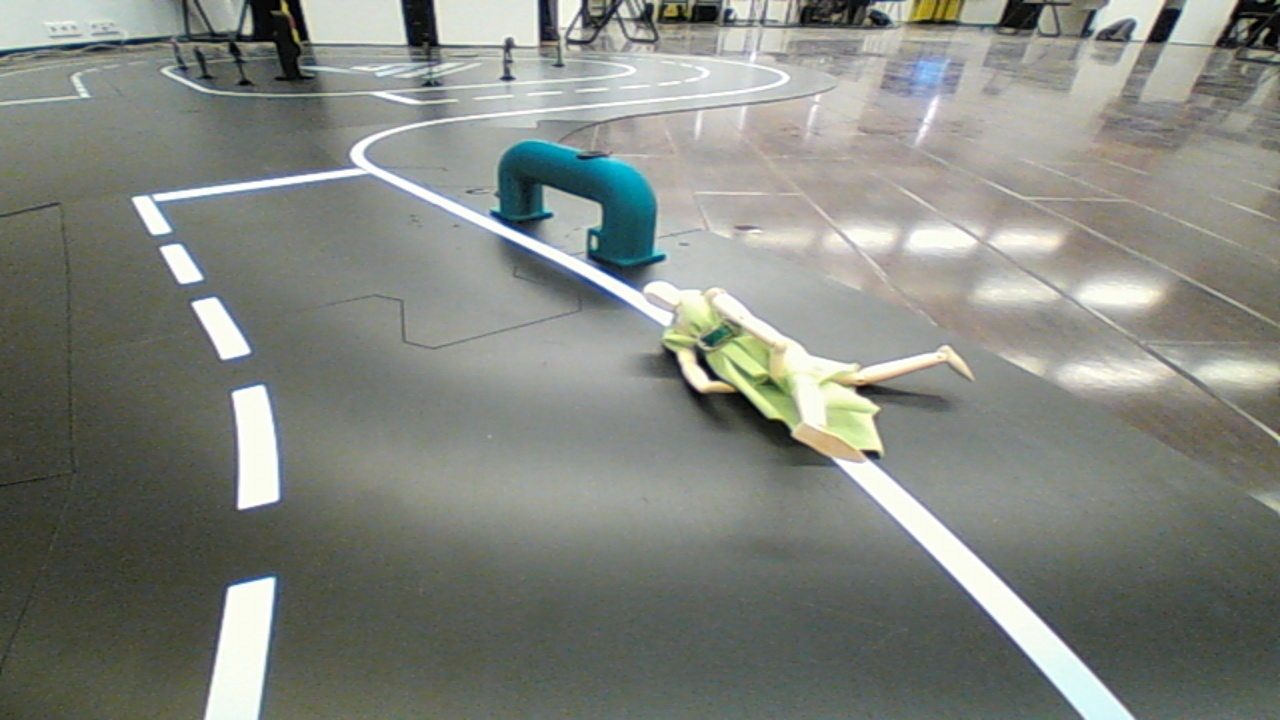Pedestrian crossing: (486, 110, 673, 286)
Road works: (630, 276, 988, 472)
